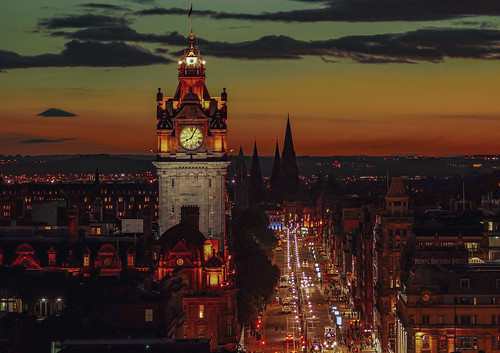building: (141, 17, 237, 353), (379, 202, 489, 340), (1, 279, 184, 353), (341, 199, 468, 302), (398, 253, 500, 353), (1, 220, 146, 280), (5, 172, 157, 222), (242, 120, 307, 215)
sky: (1, 1, 492, 145)
street: (262, 230, 334, 353)
